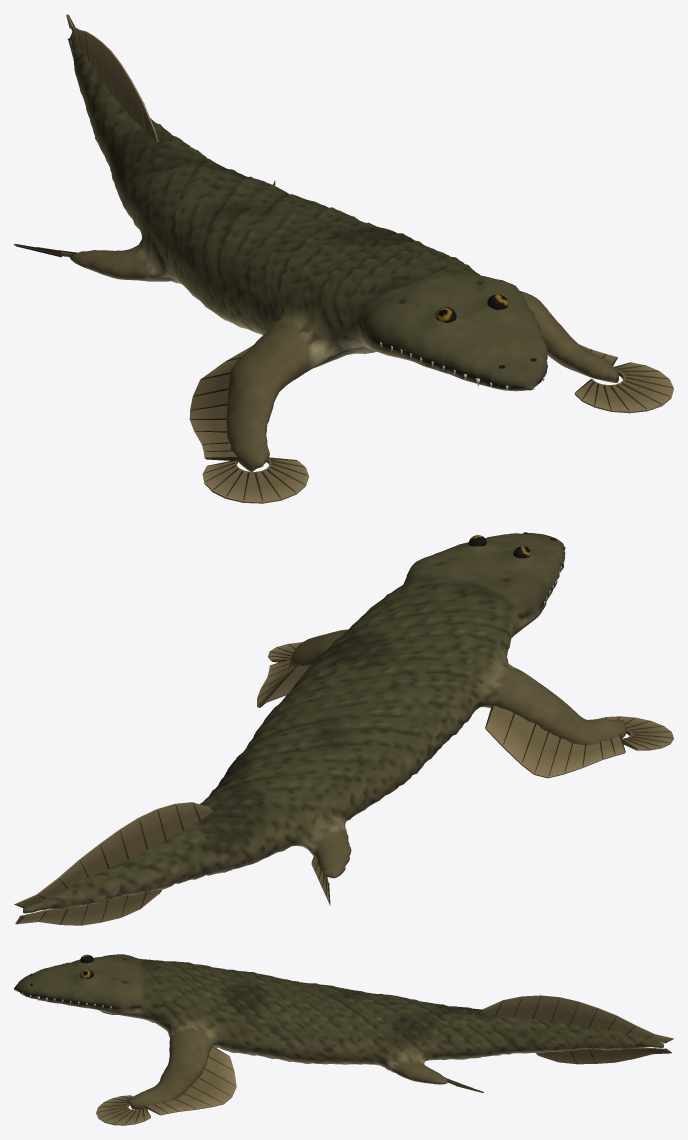
Rendered from Tiktaalik.fbx.
3 renders of one model, top to bottom at view 1: azimuth 30°, elevation 25°; view 2: azimuth 150°, elevation 25°; view 3: azimuth 270°, elevation 25°, orthographic. The views are drawn at different scales.
Parts seen in each view (by area): view 1: Tiktaalik; view 2: Tiktaalik; view 3: Tiktaalik.
Part boxes in pixels (bbox=[...]): Tiktaalik: bbox=[14, 14, 673, 503]; Tiktaalik: bbox=[14, 532, 673, 925]; Tiktaalik: bbox=[14, 954, 673, 1125].
Bounding box in the file's own units: 0.8772 × 0.2936 × 1.81.
